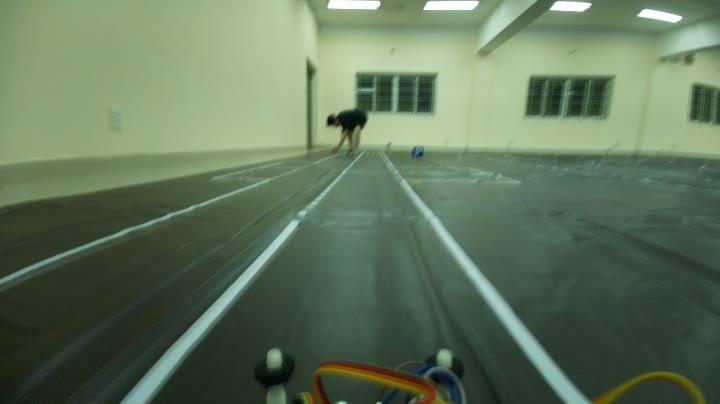parking: (412, 142, 427, 160)
